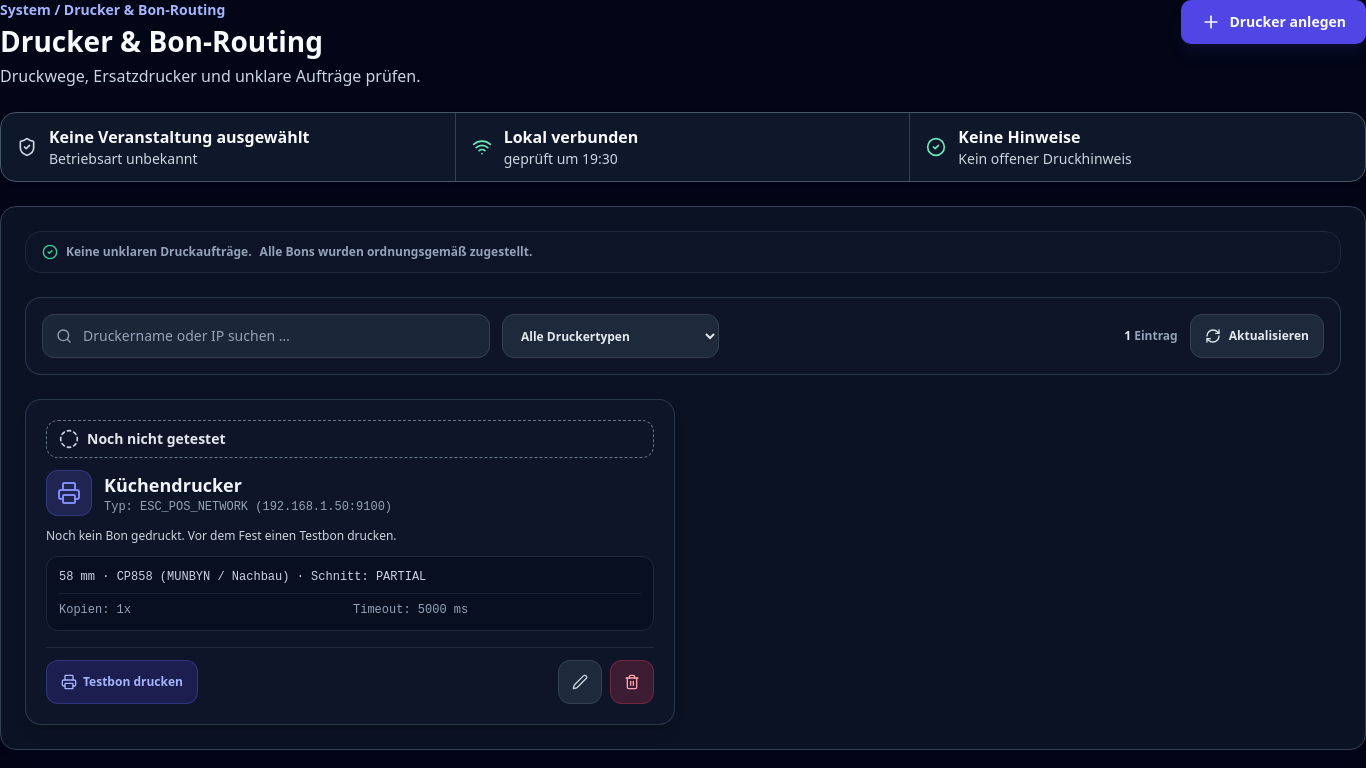
Test case: Druckerverwaltung › zeigt die Diagnose des Workers, wenn der Druck scheitert
The width and height of the screenshot is (1366, 768).
Expected: the heading "Küchendrucker" is shown, [104, 473, 242, 497]
Click the button "Testbon drucken".
click(122, 682)  # box [46, 660, 198, 704]
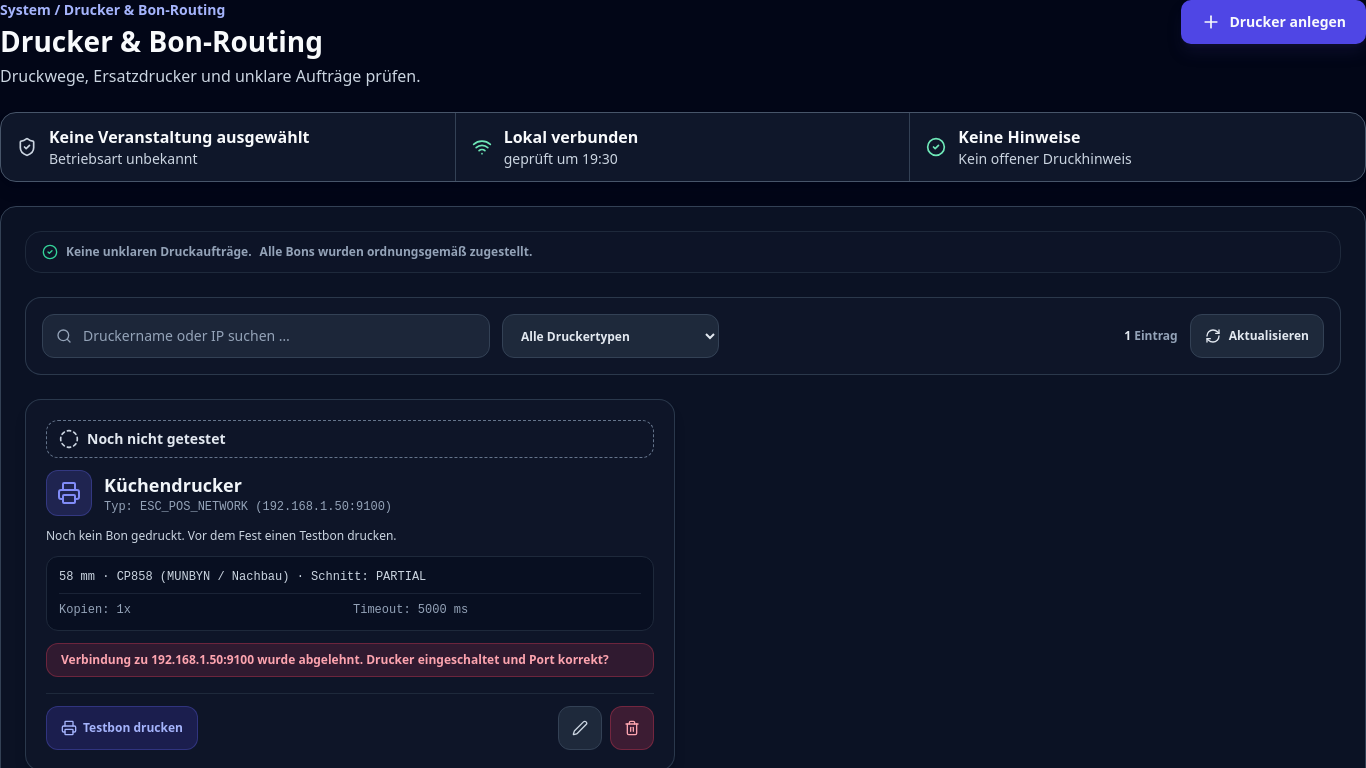
Result: the text "wurde abgelehnt" is shown at [61, 651, 609, 668]
